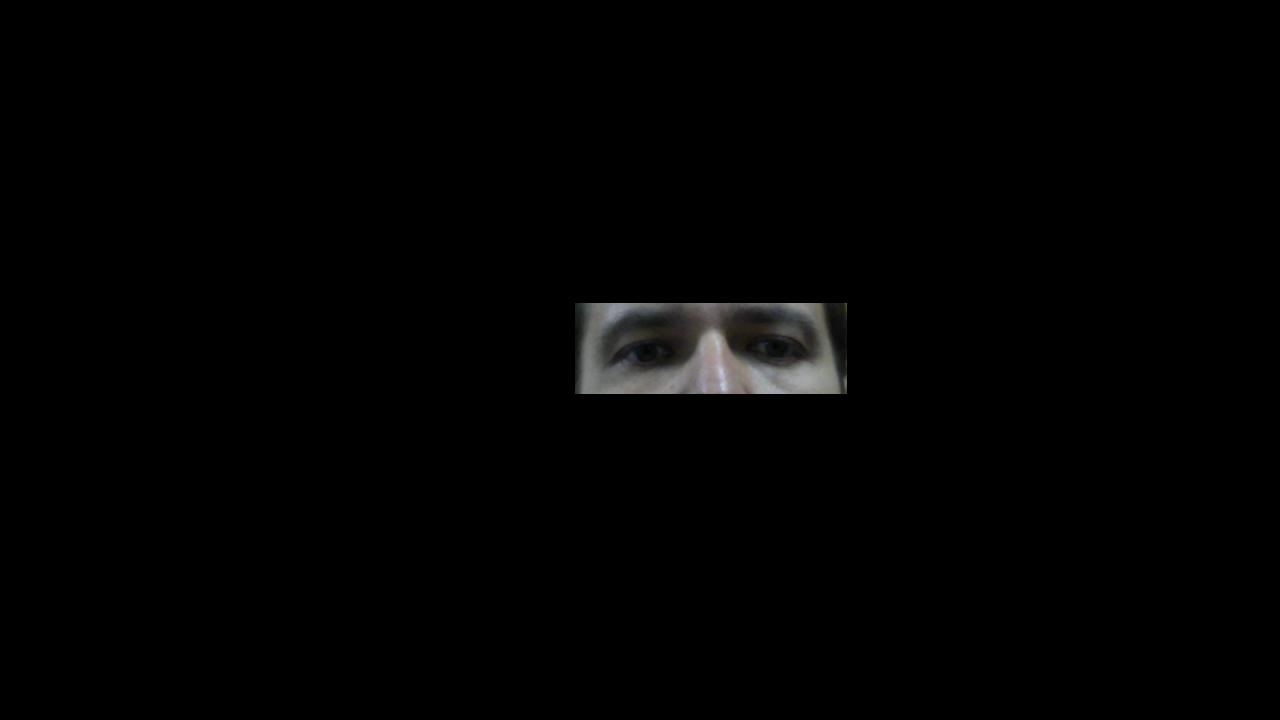eye: (631, 343, 659, 362), (762, 341, 789, 360)
